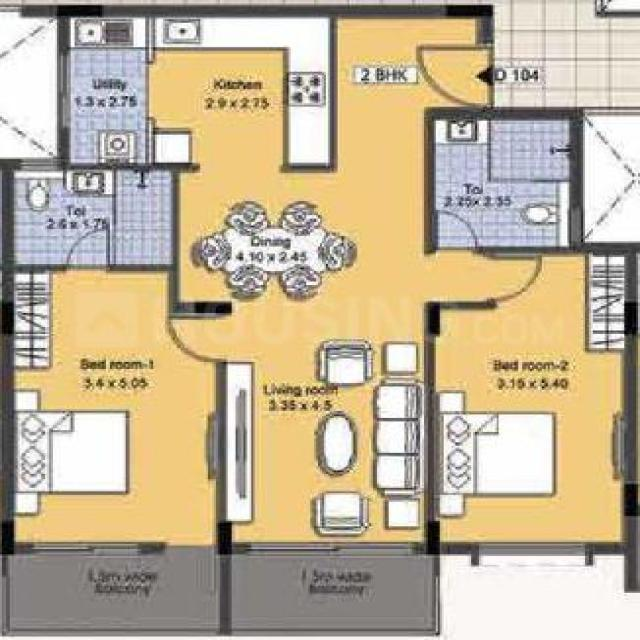Balcony-Sitout: (232, 553, 433, 631), (11, 554, 218, 628)
Bedroom: (434, 253, 628, 545)
Bedroom with Toilet: (8, 162, 220, 545)
Dining: (178, 201, 369, 300)
Enterance-Foyer: (338, 15, 495, 107)
Kitchen: (152, 18, 331, 165)
Living: (228, 316, 426, 545)
Toilet: (437, 122, 569, 247), (14, 169, 170, 265)
Utility: (69, 18, 146, 163)
